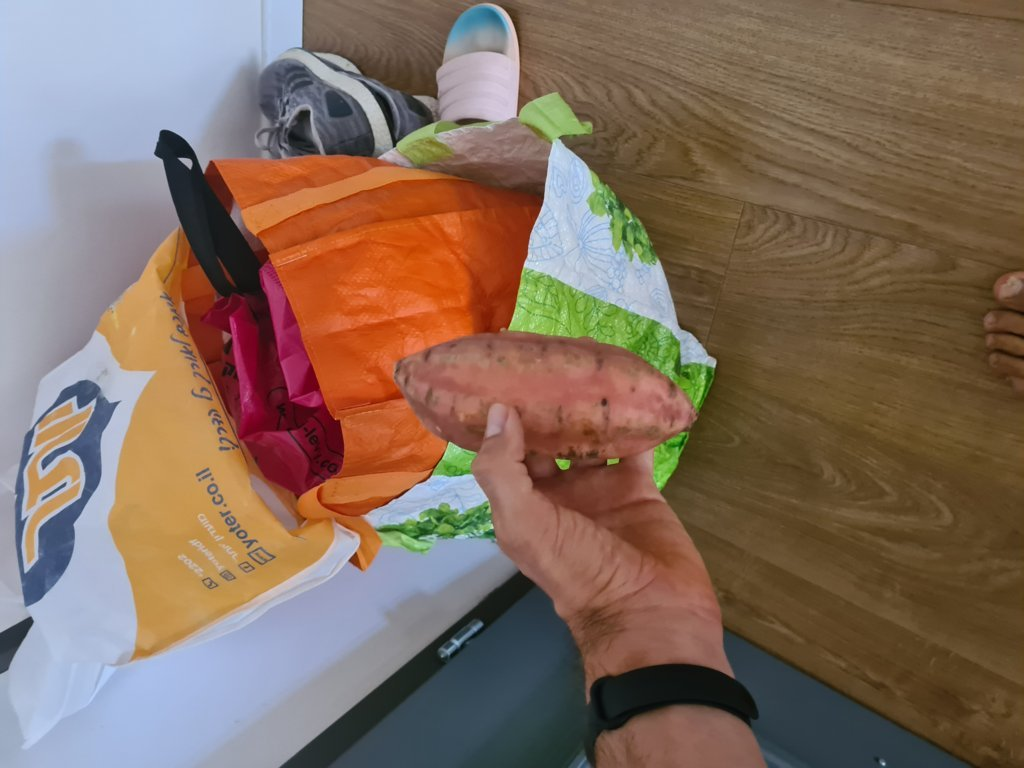Sweet Potatow: (391, 337, 703, 472)
